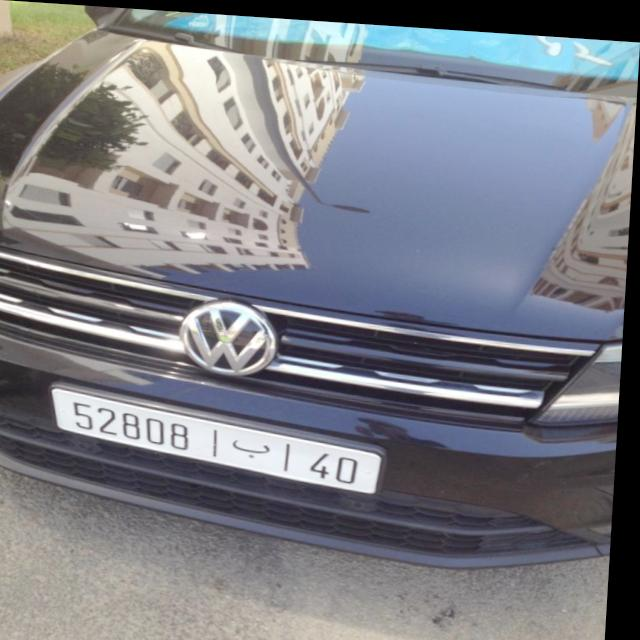License-Plate: (57, 387, 387, 488)
